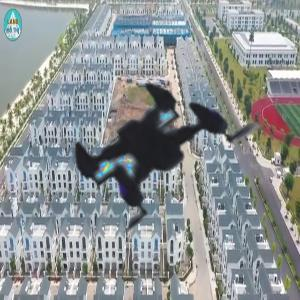drone: (3, 1, 299, 297)
